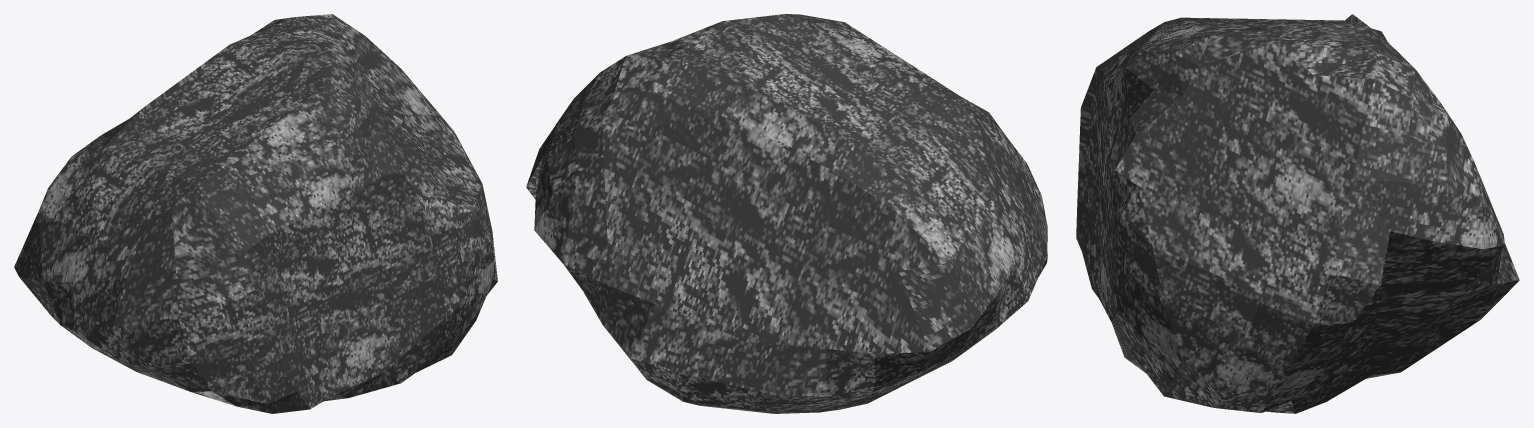
Rendered from stone2.glb.
The picture shows the model from 3 angles, left to right: view 1: azimuth 30°, elevation 25°; view 2: azimuth 150°, elevation 25°; view 3: azimuth 270°, elevation 25°; orthographic projection. The views are drawn at different scales.
Visible parts, largest first — view 1: Cube; view 2: Cube; view 3: Cube.
Boxes of the visible parts, left/top/right/bottom form: Cube: left=14, top=14, right=497, bottom=413; Cube: left=526, top=14, right=1047, bottom=413; Cube: left=1076, top=14, right=1519, bottom=413.
Bounding box in the file's own units: 1.98 × 1.39 × 1.61.
1 material, 1 textured.
